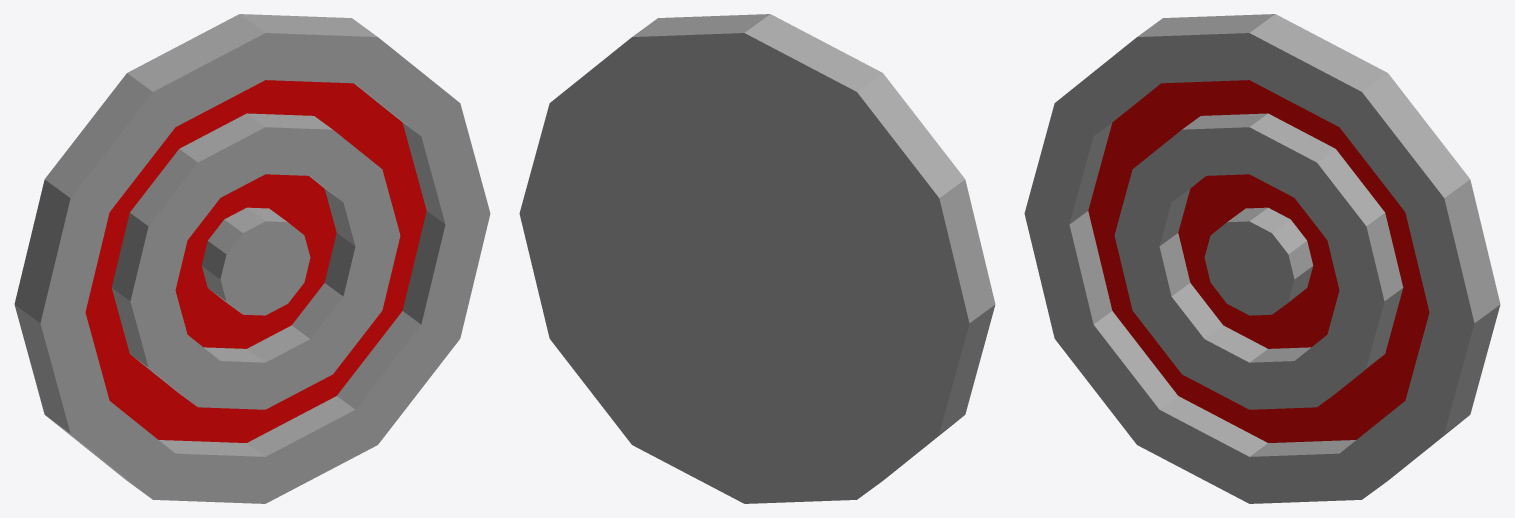
The model's file is Cible.fbx.
The picture shows the model from 3 angles, left to right: view 1: azimuth 30°, elevation 25°; view 2: azimuth 150°, elevation 25°; view 3: azimuth 330°, elevation 25°; orthographic projection.
Parts seen in each view (by area): view 1: pCylinder1; view 2: pCylinder1; view 3: pCylinder1.
Part boxes in pixels (bbox=[...]): pCylinder1: bbox=[14, 14, 490, 503]; pCylinder1: bbox=[519, 14, 995, 503]; pCylinder1: bbox=[1024, 14, 1500, 503].
Bounding box in the file's own units: 2 × 2 × 0.2.
